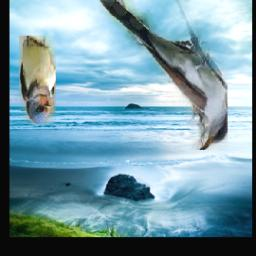Cuckoo: (101, 0, 229, 150)
Swallow: (20, 36, 57, 123)
